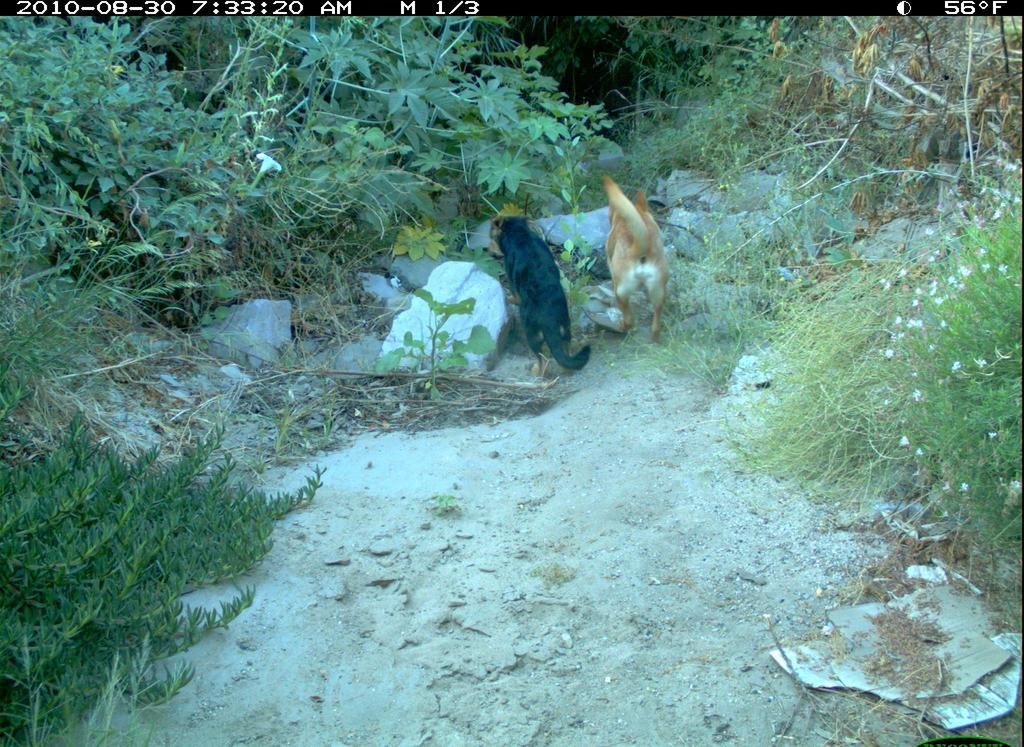dog: (475, 204, 596, 373), (597, 172, 683, 345)
